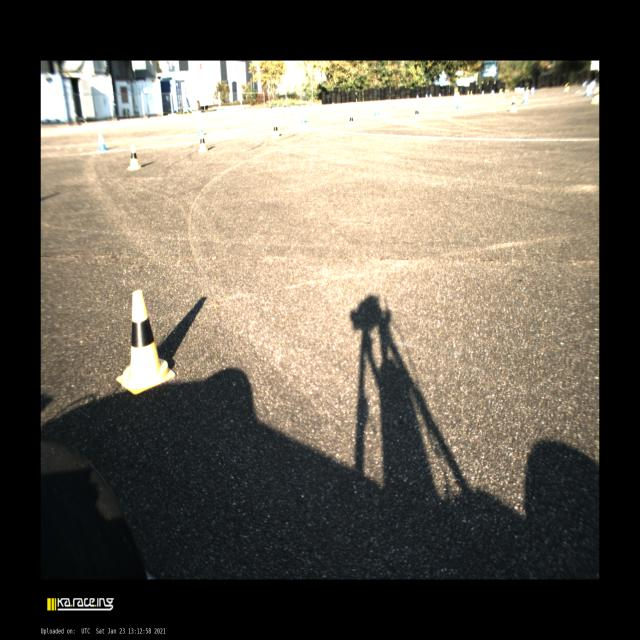blue_cone: (97, 133, 107, 150), (198, 121, 208, 136), (301, 110, 307, 124), (522, 92, 529, 104), (374, 104, 380, 116), (456, 99, 462, 109), (530, 86, 535, 94), (491, 89, 495, 97), (429, 93, 432, 99), (425, 93, 428, 99), (416, 94, 419, 100), (482, 90, 484, 96), (439, 92, 441, 98)
yellow_cone: (116, 290, 176, 394), (127, 145, 140, 170), (198, 132, 208, 152), (271, 120, 280, 138), (348, 114, 355, 129), (510, 97, 517, 112), (592, 89, 599, 104), (414, 106, 421, 120), (564, 82, 569, 91), (499, 88, 503, 96), (526, 86, 529, 95), (470, 90, 473, 96), (467, 90, 469, 97)
